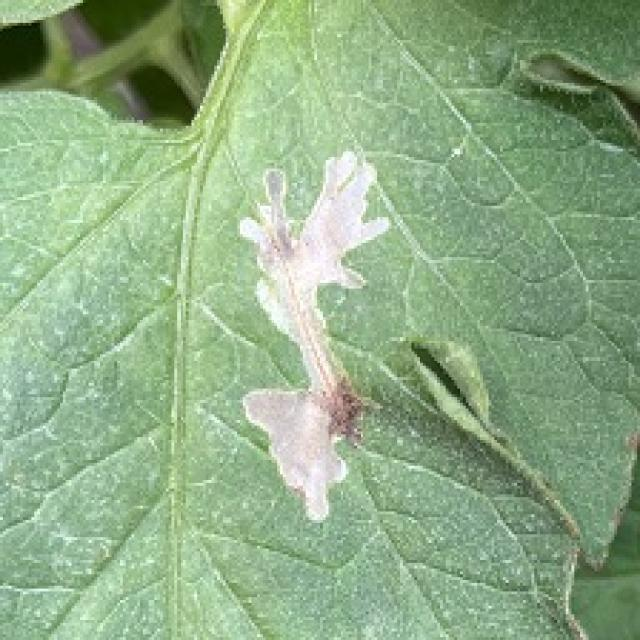Tuta absoluta: (240, 151, 386, 517)
